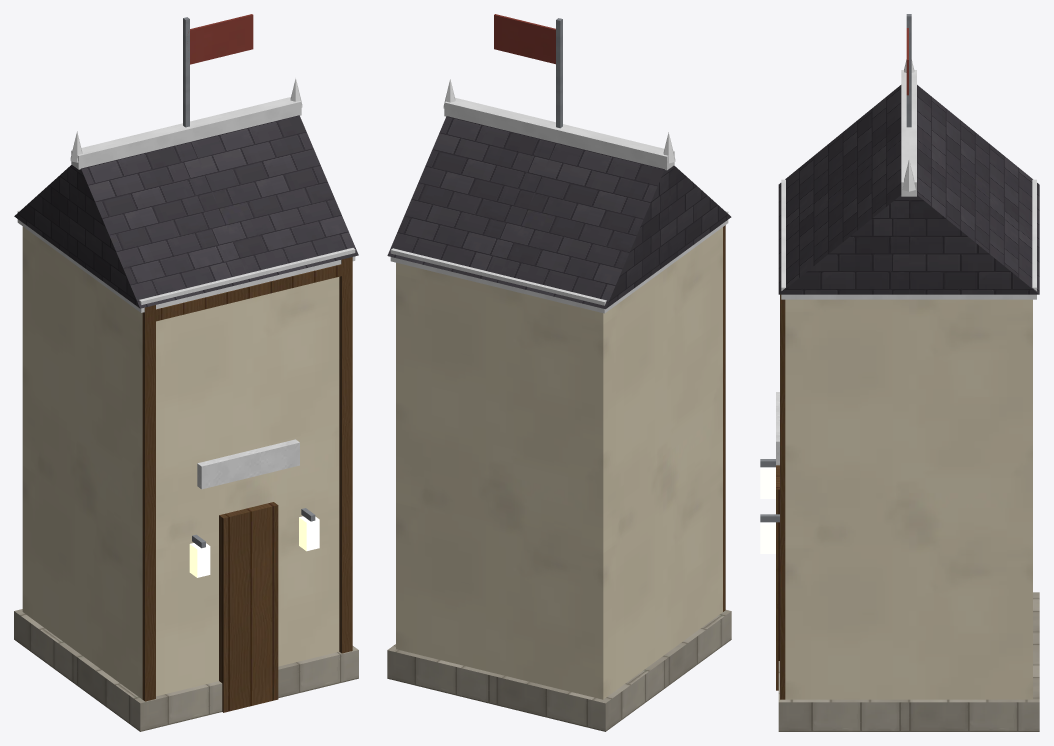
The model's file is category.governance.t5.glb.
The picture shows the model from 3 angles, left to right: view 1: azimuth 30°, elevation 25°; view 2: azimuth 150°, elevation 25°; view 3: azimuth 270°, elevation 25°; orthographic projection. The views are drawn at different scales.
Visible parts, largest first — view 1: building.category.governance.t5; view 2: building.category.governance.t5; view 3: building.category.governance.t5.
Part boxes in pixels (box(x1,y1,x2,y2)): building.category.governance.t5: box(14, 14, 358, 731); building.category.governance.t5: box(387, 14, 731, 731); building.category.governance.t5: box(760, 14, 1039, 731).
Size of the model in its own units: 2.12 by 5.6 by 2.14.
9 materials, 8 textured.
